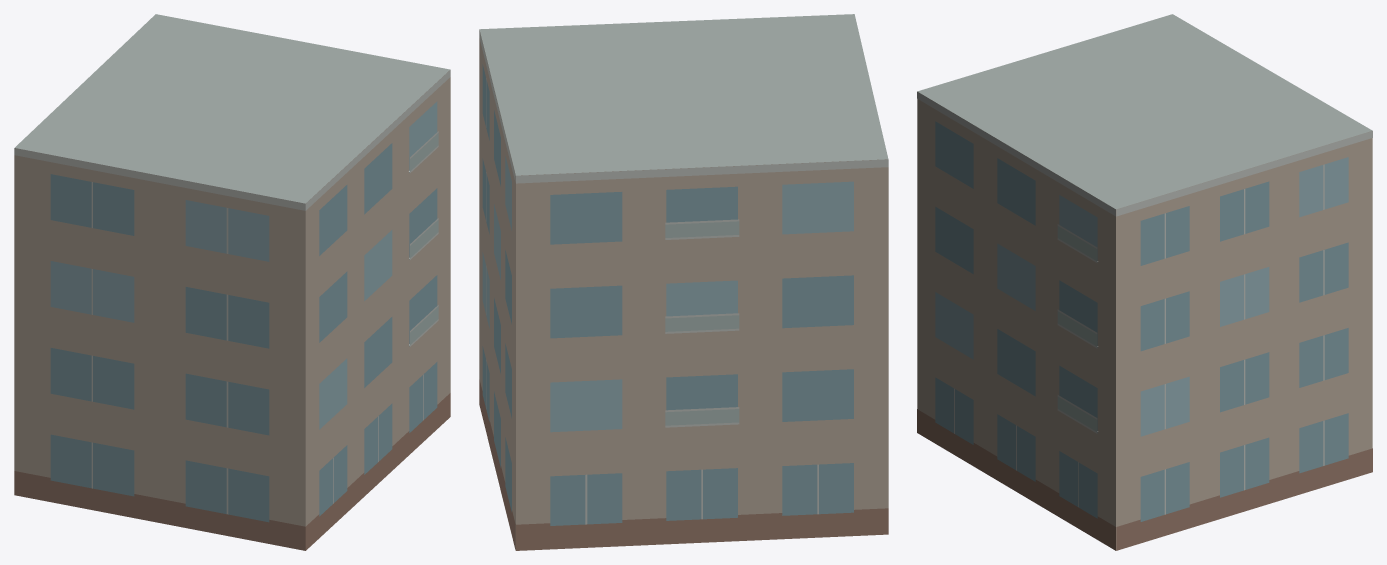
File: survey-upis-32528576.glb
The picture shows the model from 3 angles, left to right: view 1: azimuth 30°, elevation 25°; view 2: azimuth 150°, elevation 25°; view 3: azimuth 270°, elevation 25°; orthographic projection. The views are drawn at different scales.
Visible parts, largest first — view 1: survey-upis-32528576.tmp; view 2: survey-upis-32528576.tmp; view 3: survey-upis-32528576.tmp.
Part boxes in pixels (left/top/right/bottom): survey-upis-32528576.tmp: left=14, top=14, right=450, bottom=550; survey-upis-32528576.tmp: left=479, top=14, right=888, bottom=550; survey-upis-32528576.tmp: left=917, top=14, right=1372, bottom=550.
Size of the model in its own units: 14.25 by 11.6 by 14.04.
